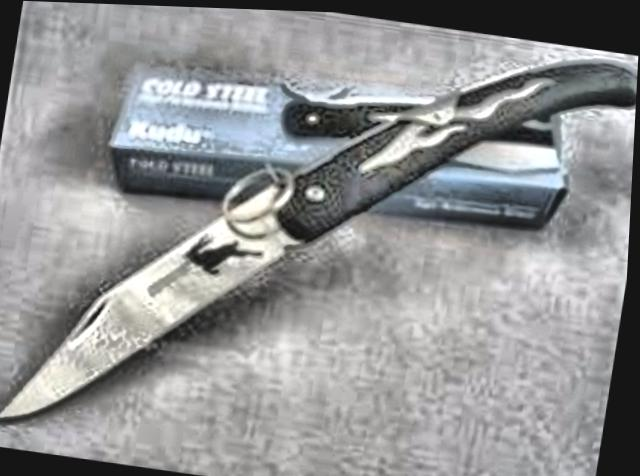knife: (0, 143, 334, 463)
